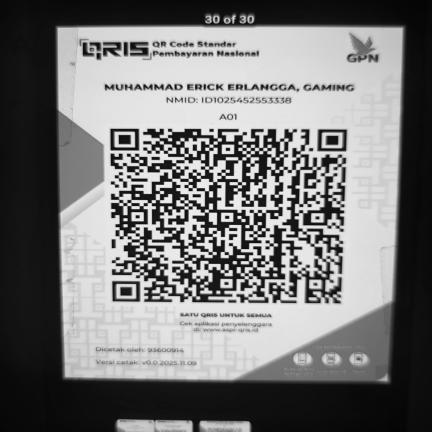Qris-Positioning: (58, 26, 403, 383)
